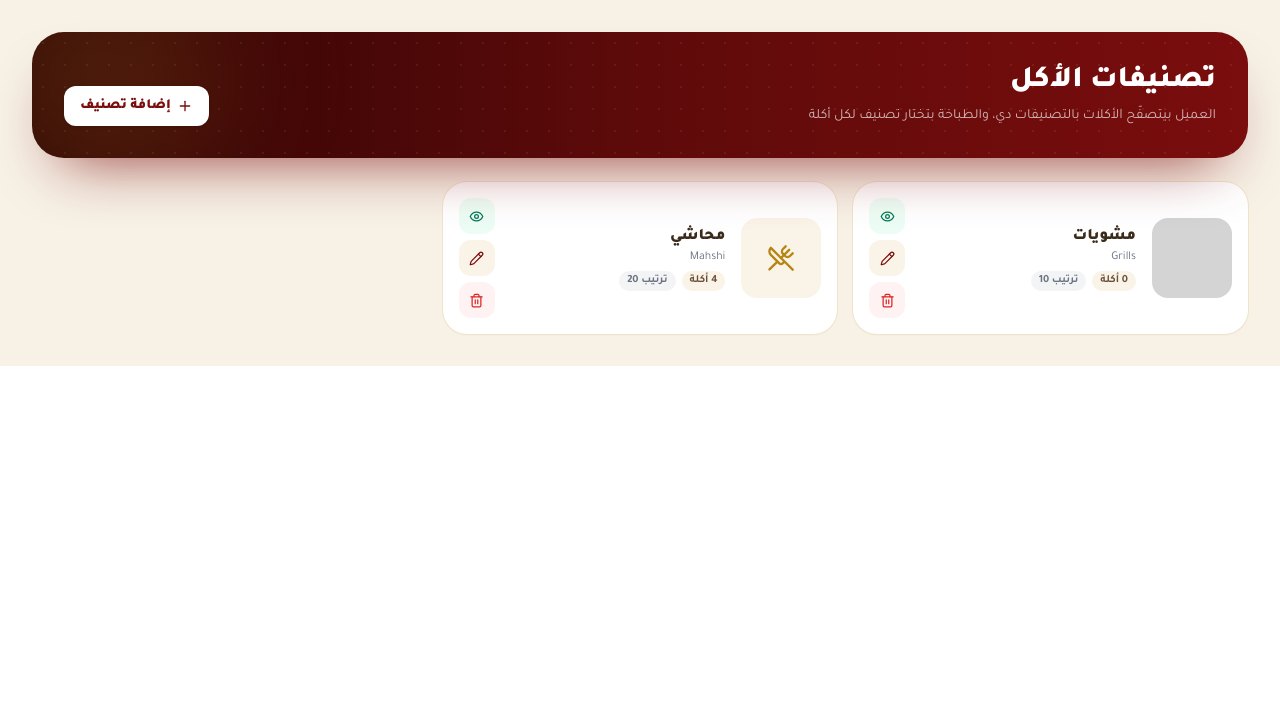
Food categories › warns how many dishes a delete leaves uncategorized, then deletes
The width and height of the screenshot is (1280, 720).
Click the button named "مسح محاشي".
click(477, 300)  # box [459,282,495,318]
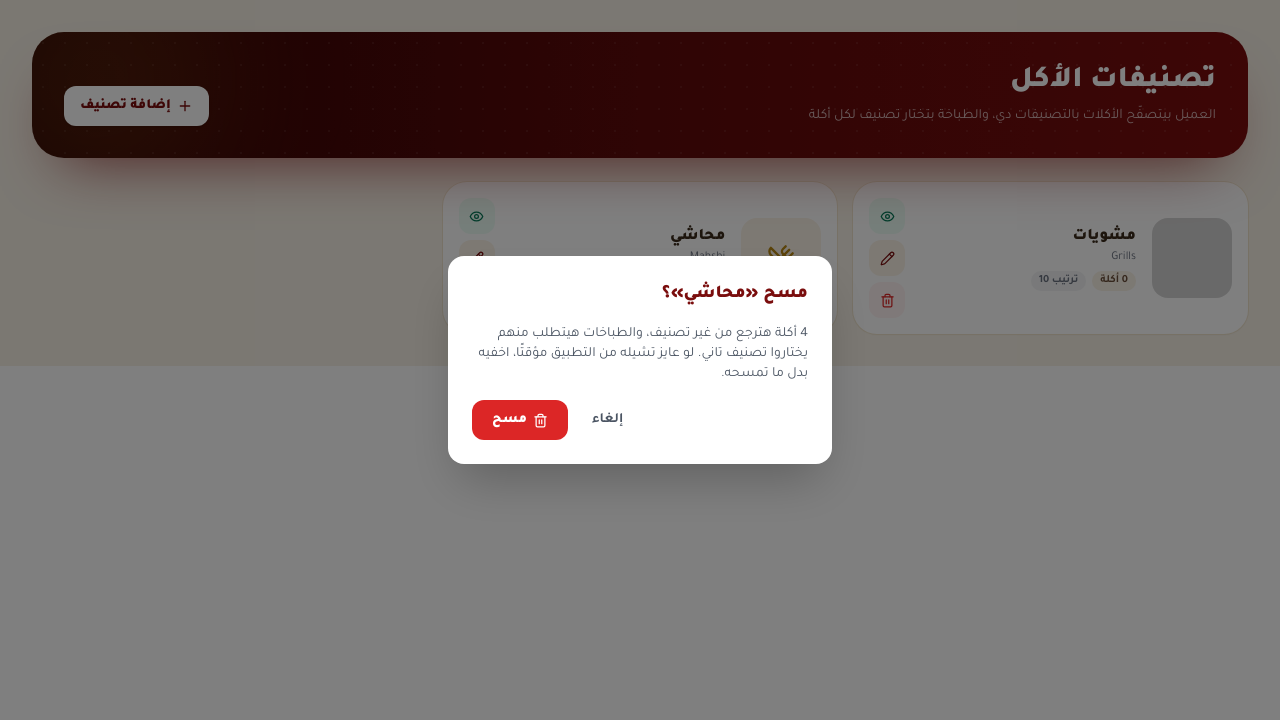
Check: the text "4 أكلة هترجع من غير تصنيف" is shown, box [479,327,808,381]
Click the button "مسح".
click(520, 420)  # box [472,400,568,440]
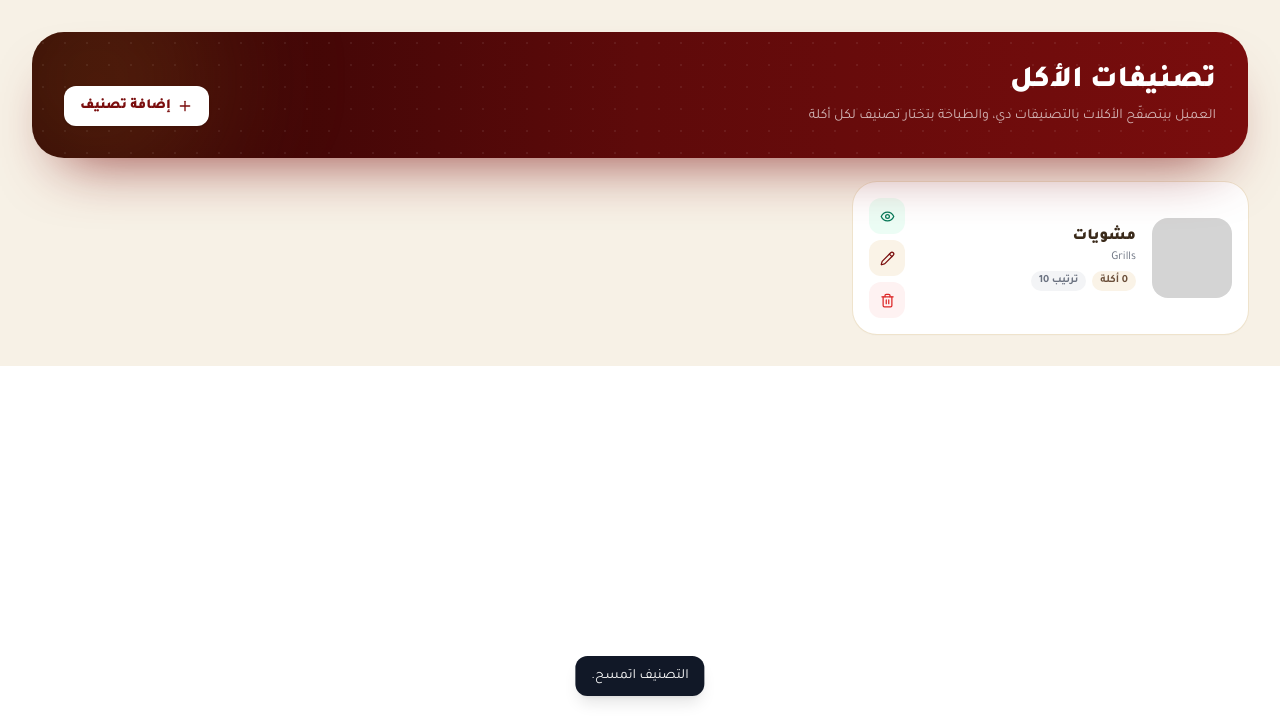
Check: the text "مشويات" is shown, box [1072,229,1136,245]
Check: the text "محاشي" is gone
